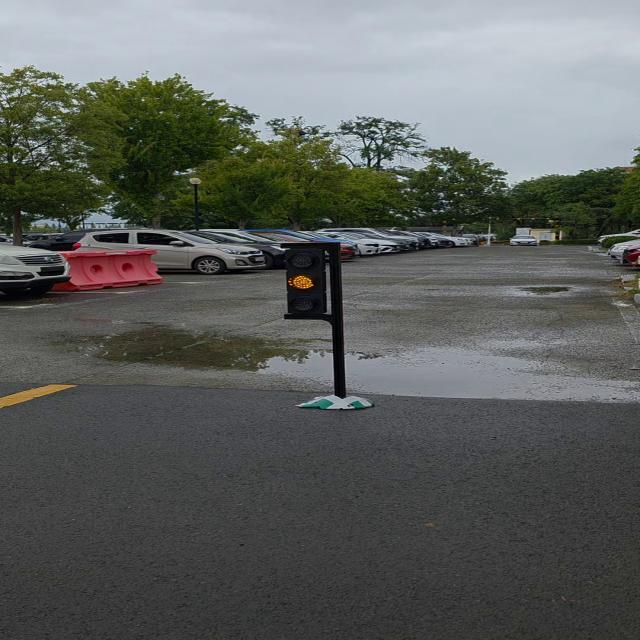yellow: (280, 242, 326, 318)
